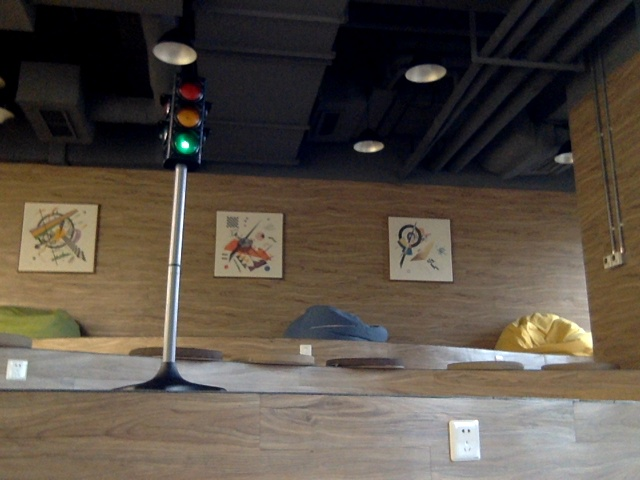green: (171, 79, 203, 160)
